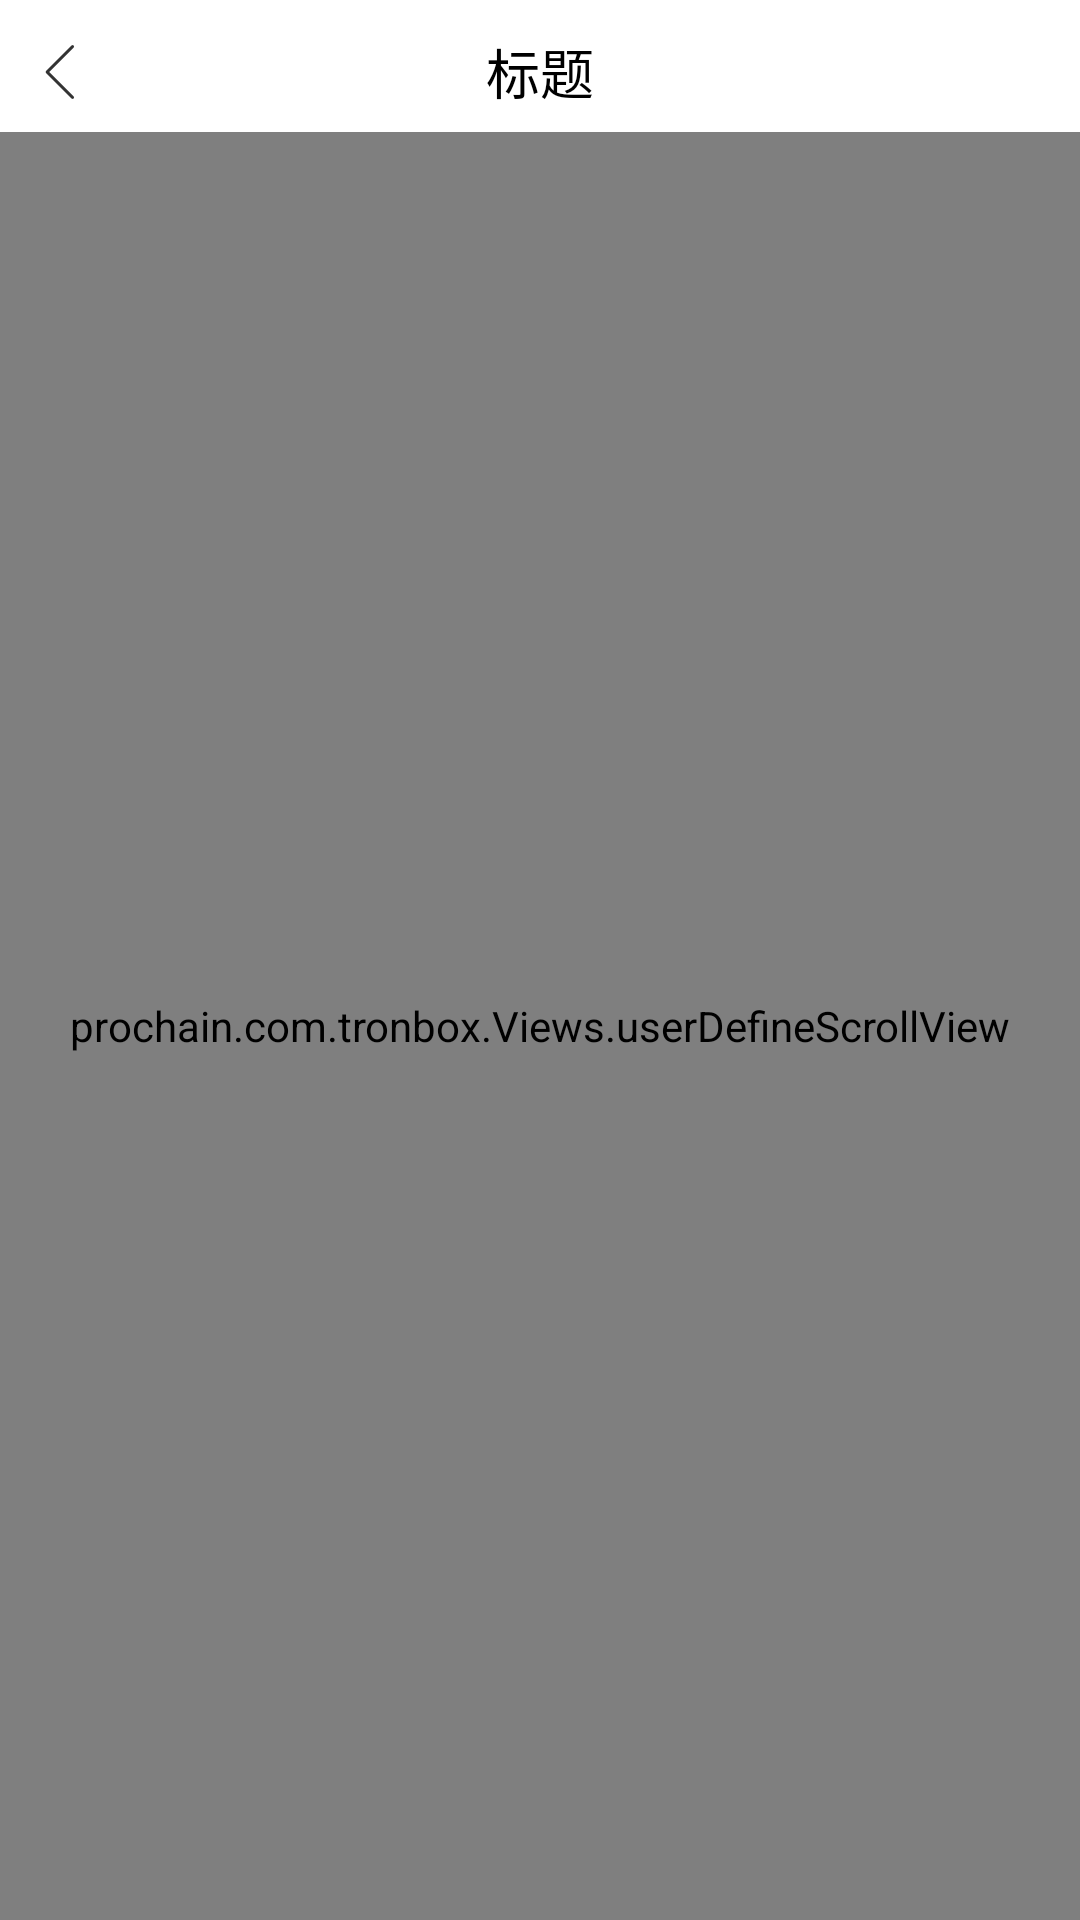

Screen size 1080px x 1920px. Icon name, then its center in pixels as point (x, y):
back: point (72, 72)
